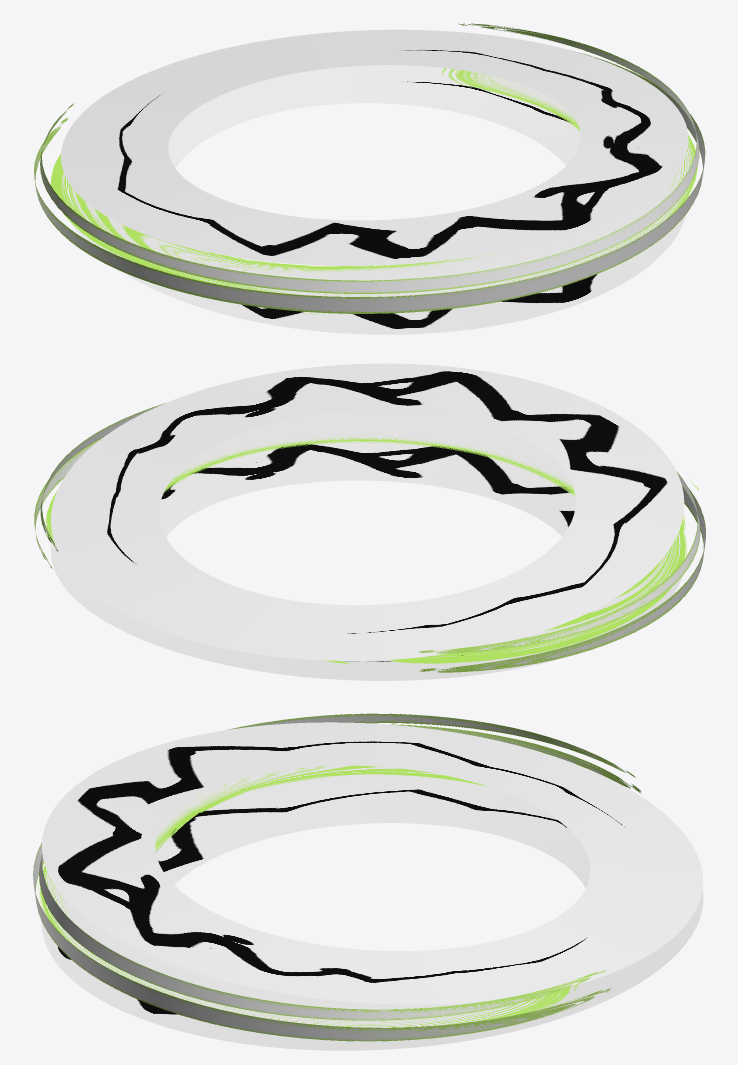
File: HeroSmearSwing.fbx
The picture shows the model from 3 angles, top to bottom: view 1: azimuth 30°, elevation 25°; view 2: azimuth 150°, elevation 25°; view 3: azimuth 270°, elevation 25°; orthographic projection. The views are drawn at different scales.
Visible parts, largest first — view 1: LayerLightning, LayerSmear; view 2: LayerLightning, LayerSmear; view 3: LayerLightning, LayerSmear.
Part boxes in pixels (bbox=[...]): LayerLightning: bbox=[61, 29, 688, 334]; LayerSmear: bbox=[34, 23, 705, 315]; LayerLightning: bbox=[50, 363, 684, 680]; LayerSmear: bbox=[34, 403, 705, 672]; LayerLightning: bbox=[41, 722, 703, 1050]; LayerSmear: bbox=[33, 713, 641, 1041].
Bounding box in the file's own units: 943 × 107 × 884.
2 materials, 2 textured.
